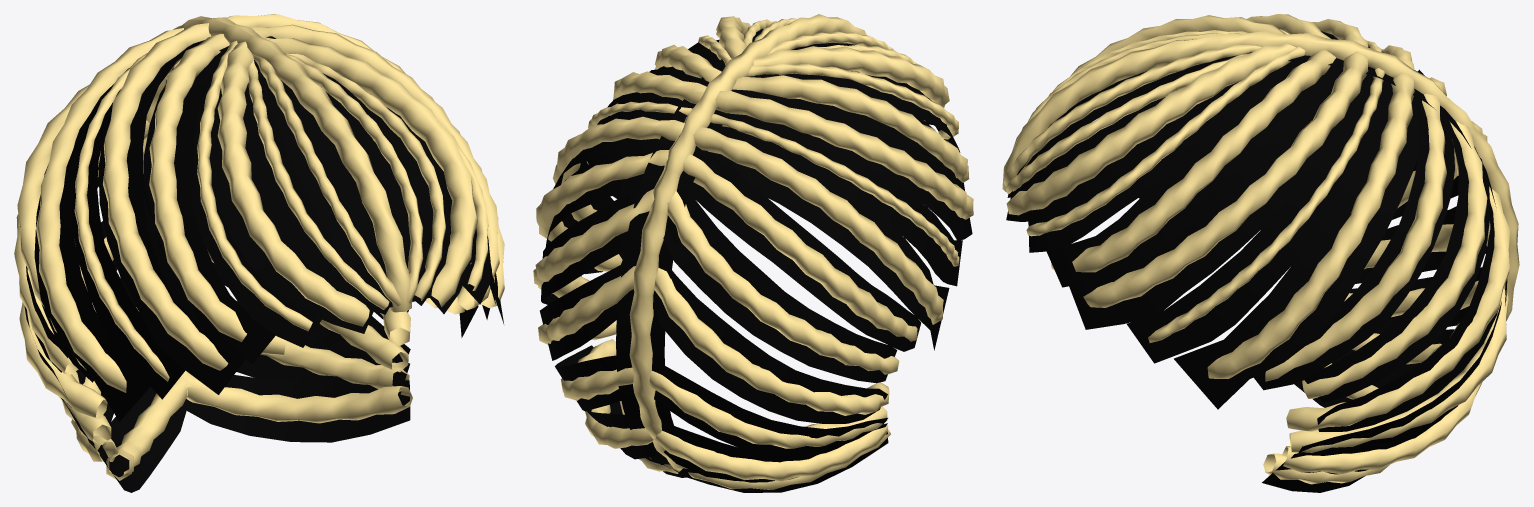
File: FinalHair03_Braids.fbx
3 views of the same model, side by side, from view 1: azimuth 30°, elevation 25°; view 2: azimuth 150°, elevation 25°; view 3: azimuth 270°, elevation 25° (orthographic). The views are drawn at different scales.
Parts seen in each view (by area): view 1: Braid; view 2: Braid; view 3: Braid.
Boxes of the visible parts, x1,y1,x2,y2 form: Braid: (14, 14, 504, 492); Braid: (533, 14, 973, 492); Braid: (1002, 14, 1519, 492).
Bounding box in the file's own units: 0.1904 × 0.2018 × 0.2242.
